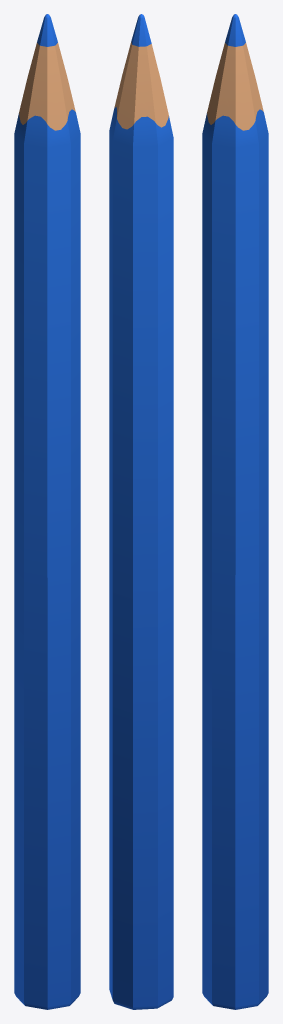
The model's file is pencil_1.glb.
The picture shows the model from 3 angles, left to right: view 1: azimuth 90°, elevation 25°; view 2: azimuth 210°, elevation 25°; view 3: azimuth 270°, elevation 25°; orthographic projection.
Visible parts, largest first — view 1: Cylinder.034; view 2: Cylinder.034; view 3: Cylinder.034.
Boxes of the visible parts, x1,y1,x2,y2 form: Cylinder.034: (14,14,80,1009); Cylinder.034: (109,14,173,1009); Cylinder.034: (202,14,268,1009).
Bounding box in the file's own units: 0.00842 × 0.1376 × 0.00842.
Materials: 1 (1 with a texture image).
